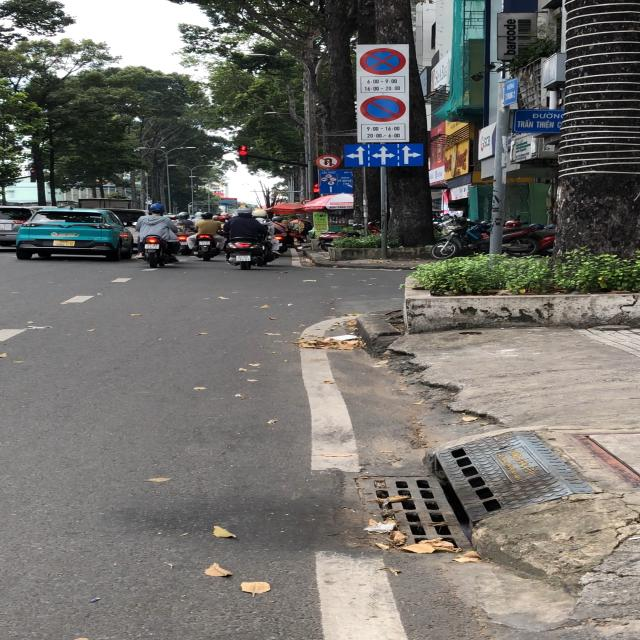Bien bao cam do xe: (358, 93, 410, 124)
Bien bao cam dung xe va do xe: (356, 44, 409, 76)
Bien bao cam quay dau xe: (312, 153, 346, 170)
